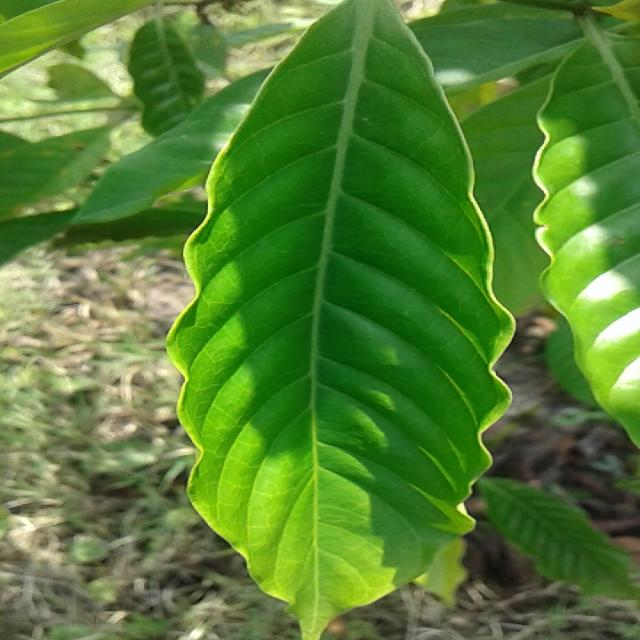Sanas: (167, 0, 516, 640)
